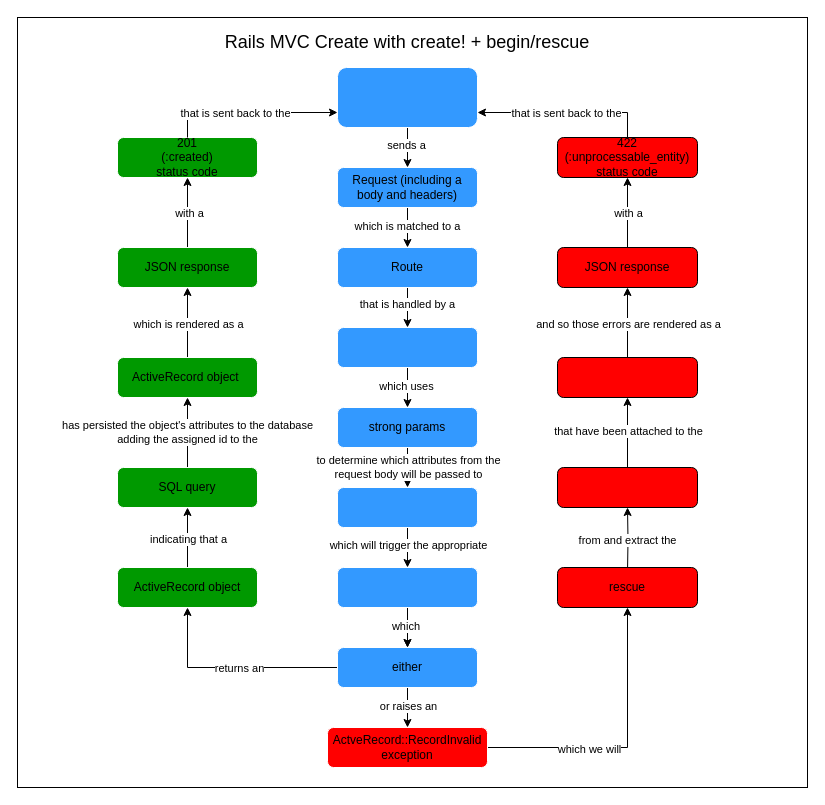
This 825x805 diagram has some shape labels left out. Here are the shapes that lost their labels. From the top down, the box of each, then its label:
(336, 66, 478, 128): Client (Browser)
(336, 326, 478, 368): Controller Action
(556, 356, 698, 398): ActiveRecord object (accessed by e.record)
(336, 486, 478, 528): create!
(556, 466, 698, 508): validation errors
(336, 566, 478, 608): validations
